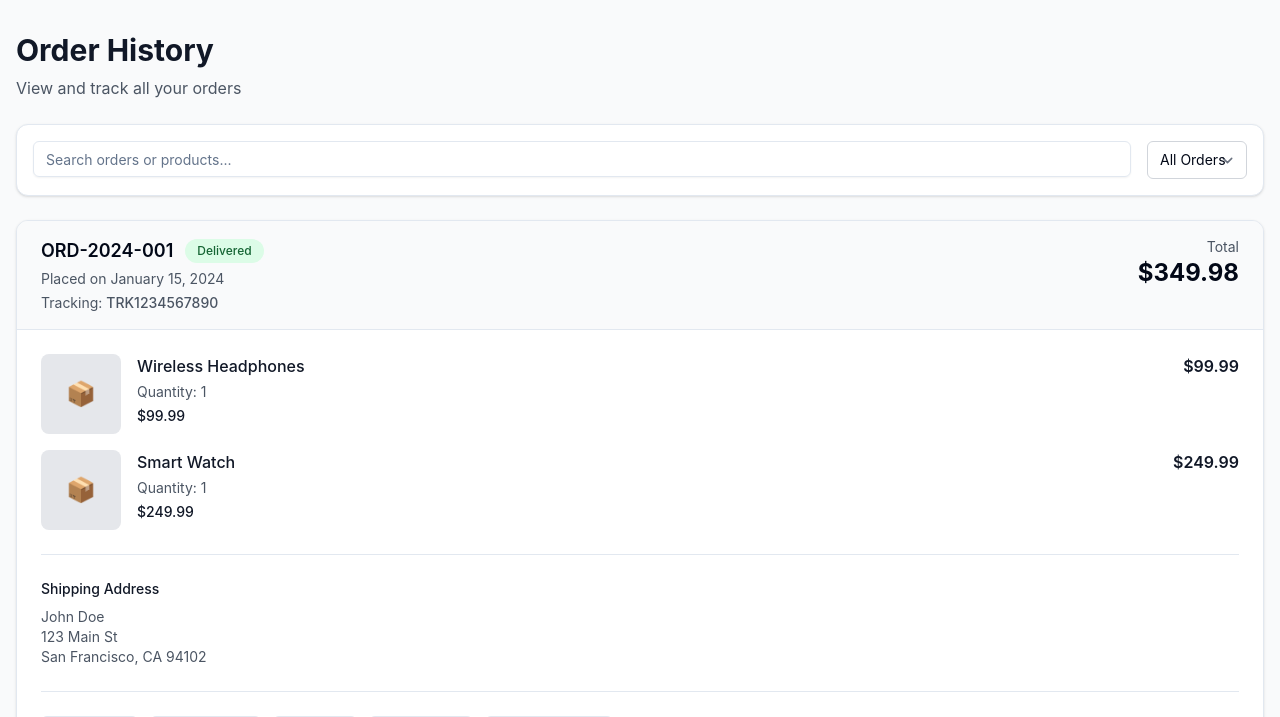
Test: OrderHistoryPage - Search Functionality › should show empty state when no orders match search
Step 1. Type "nonexistent product xyz" into the field with test id "order-search-input" → (582, 159), box [33,141,1131,177]
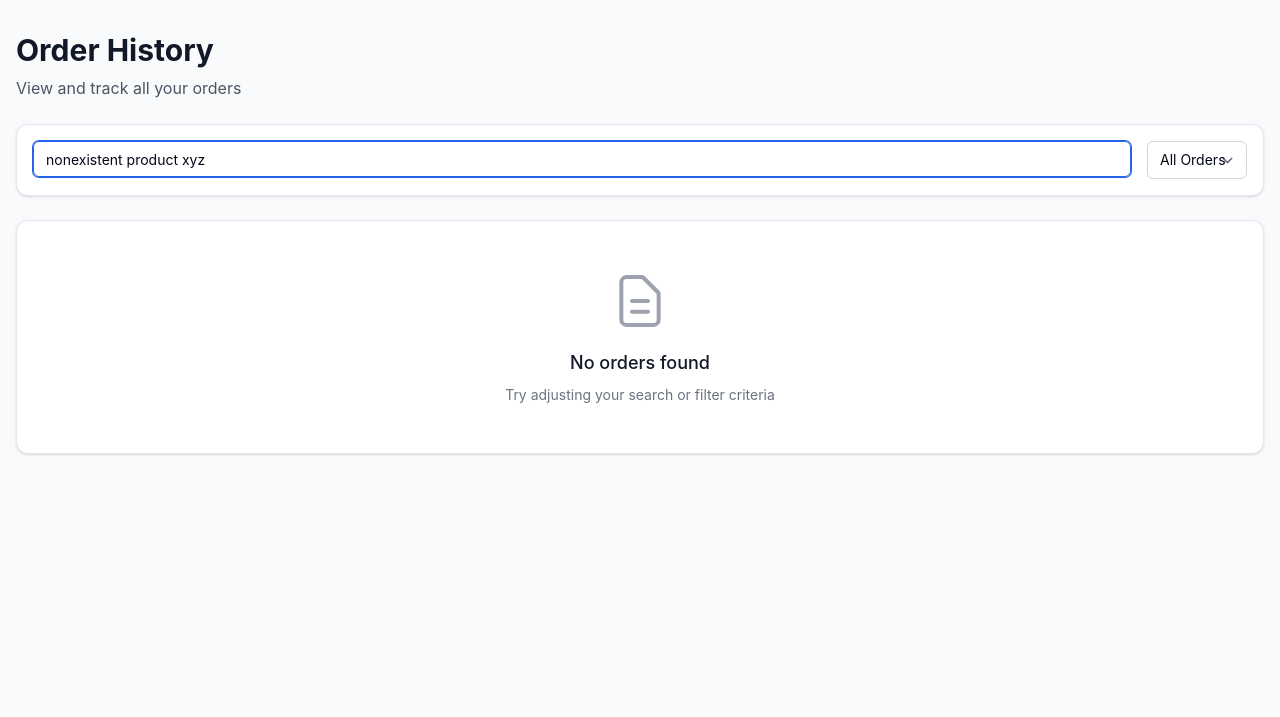
Expected: the heading "No orders found" is shown, [570,352,710,373]
Expected: the text "Try adjusting your search or filter criteria" is shown, [505,386,775,403]
